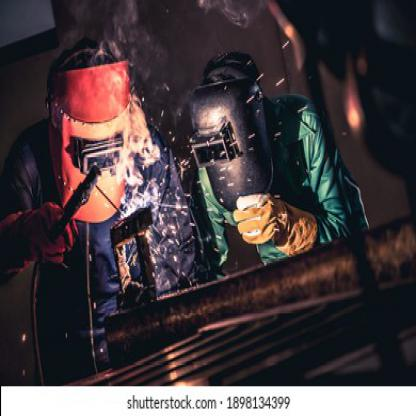with_gloves: (1, 200, 79, 275), (233, 189, 318, 257)
